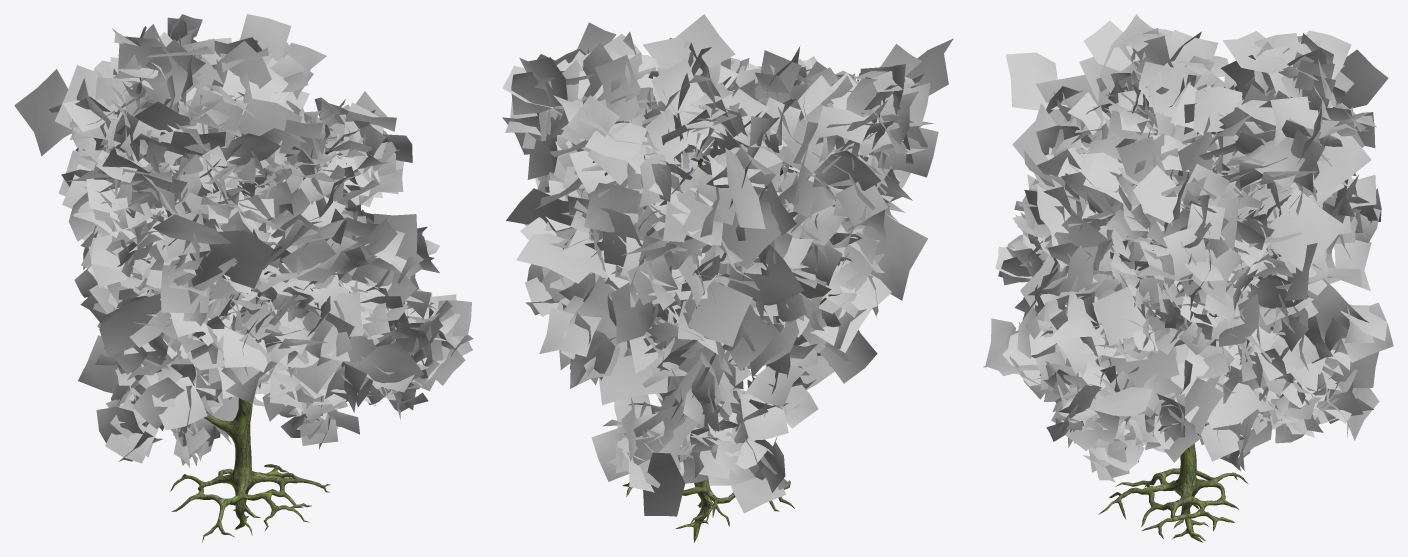
The model's file is Tree12.fbx.
3 renders of one model, left to right at view 1: azimuth 30°, elevation 25°; view 2: azimuth 150°, elevation 25°; view 3: azimuth 270°, elevation 25°, orthographic. The views are drawn at different scales.
Parts seen in each view (by area): view 1: tree12, tree12|branch12-3|Dupli|120, tree12|branch12-3|Dupli|249, tree12|branch12-2|Dupli|217, tree12|branch12-1|Dupli|23, tree12|branch12-1|Dupli|86, tree12|branch12-2|Dupli|202, tree12|branch12-2|Dupli|238, tree12|branch12-3|Dupli|237, tree12|branch12-3|Dupli|252, tree12|branch12-2|Dupli|19, tree12|branch12-1|Dupli|248 (+73 smaller); view 2: tree12|branch12-3|Dupli|51, tree12|branch12-2|Dupli|112, tree12|branch12-3|Dupli|177, tree12|branch12-1|Dupli|68, tree12|branch12-3|Dupli|12, tree12|branch12-1|Dupli|23, tree12|branch12-3|Dupli|249, tree12|branch12-2|Dupli|253, tree12|branch12-3|Dupli|279, tree12|branch12-3|Dupli|291, tree12|branch12-1|Dupli|86, tree12|branch12-2|Dupli|73 (+61 smaller); view 3: tree12|branch12-1|Dupli|23, tree12|branch12-3|Dupli|18, tree12|branch12-2|Dupli|112, tree12, tree12|branch12-3|Dupli|237, tree12|branch12-3|Dupli|51, tree12|branch12-3|Dupli|213, tree12|branch12-1|Dupli|77, tree12|branch12-2|Dupli|238, tree12|branch12-3|Dupli|216, tree12|branch12-2|Dupli|199, tree12|branch12-3|Dupli|150 (+70 smaller).
Part boxes in pixels (x1,y1,x2,y2): tree12: (170,149,350,542); tree12|branch12-3|Dupli|120: (146,201,273,312); tree12|branch12-3|Dupli|249: (14,69,125,156); tree12|branch12-2|Dupli|217: (346,213,423,314); tree12|branch12-1|Dupli|23: (208,14,326,104); tree12|branch12-1|Dupli|86: (118,359,207,433); tree12|branch12-2|Dupli|202: (208,302,277,402); tree12|branch12-2|Dupli|238: (61,152,187,237); tree12|branch12-3|Dupli|237: (152,192,231,286); tree12|branch12-3|Dupli|252: (55,42,165,140); tree12|branch12-2|Dupli|19: (247,214,346,295); tree12|branch12-1|Dupli|248: (110,37,205,126); tree12|branch12-3|Dupli|51: (642,14,735,161); tree12|branch12-2|Dupli|112: (539,275,620,388); tree12|branch12-3|Dupli|177: (591,411,702,516); tree12|branch12-1|Dupli|68: (633,312,739,431); tree12|branch12-3|Dupli|12: (687,273,776,391); tree12|branch12-1|Dupli|23: (502,42,612,114); tree12|branch12-3|Dupli|249: (700,116,782,229); tree12|branch12-2|Dupli|253: (553,95,654,170); tree12|branch12-3|Dupli|279: (585,206,719,310); tree12|branch12-3|Dupli|291: (718,244,804,377); tree12|branch12-1|Dupli|86: (765,307,877,389); tree12|branch12-2|Dupli|73: (812,138,888,239); tree12|branch12-1|Dupli|23: (1225,96,1325,192); tree12|branch12-3|Dupli|18: (1237,188,1345,271); tree12|branch12-2|Dupli|112: (1311,279,1393,374); tree12: (1098,92,1247,542); tree12|branch12-3|Dupli|237: (1006,52,1111,125); tree12|branch12-3|Dupli|51: (1222,30,1354,106); tree12|branch12-3|Dupli|213: (1066,245,1152,346); tree12|branch12-1|Dupli|77: (983,302,1060,401); tree12|branch12-2|Dupli|238: (1079,14,1173,102); tree12|branch12-3|Dupli|216: (1048,310,1179,387); tree12|branch12-2|Dupli|199: (1245,315,1333,391); tree12|branch12-3|Dupli|150: (1133,164,1229,226).
Bounding box in the file's own units: 1360 × 1655 × 1250.
